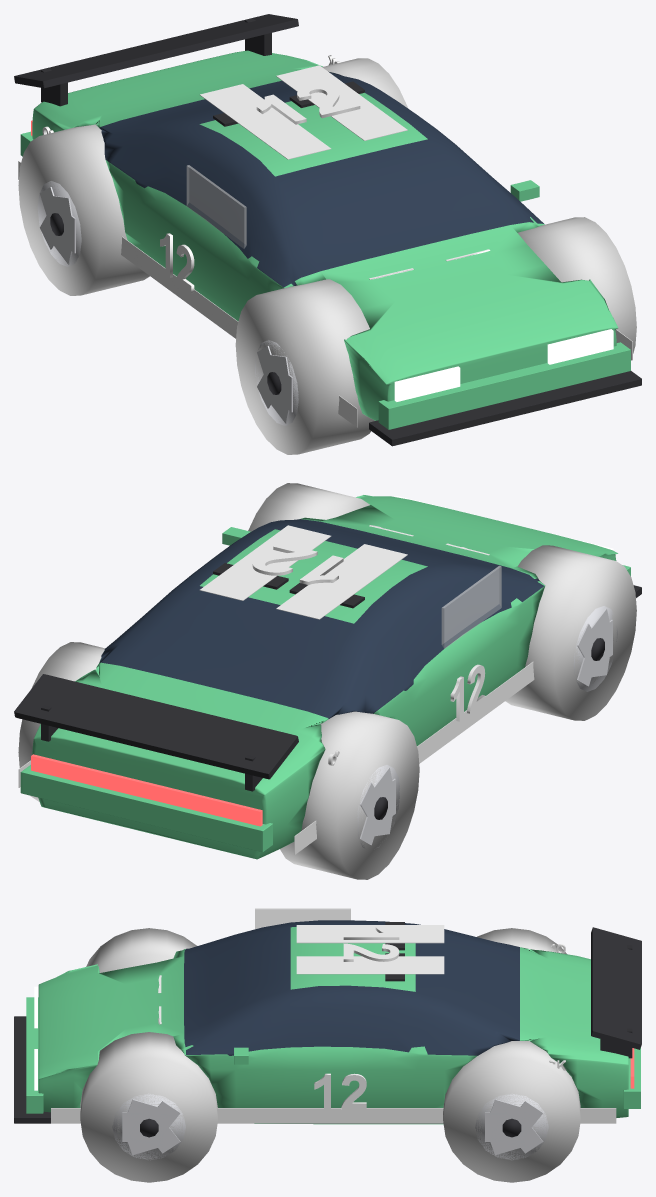
Rendered from car_2.glb.
The picture shows the model from 3 angles, top to bottom: view 1: azimuth 30°, elevation 25°; view 2: azimuth 150°, elevation 25°; view 3: azimuth 270°, elevation 25°; orthographic projection. The views are drawn at different scales.
Parts seen in each view (by area): view 1: body, cutter, cutter.002, bumperF, cutter.001, spoiler, splitter, roofL, roofR, net, sideS, Text.004 (+6 smaller); view 2: body, cutter.002, cutter, spoiler, bumperR, tail, roofL, cutter.001, roofR, net, sideS, cutter.003 (+4 smaller); view 3: body, cutter.001, cutter.003, spoiler, sideS.001, cutter, roofR, roofL, splitter, rim.001, rim.003, net (+16 smaller).
Part boxes in pixels (left/top/right/bottom): body: left=32, top=50, right=618, bottom=420; cutter: left=235, top=279, right=374, bottom=454; cutter.002: left=18, top=124, right=149, bottom=295; bumperF: left=378, top=342, right=630, bottom=429; cutter.001: left=518, top=217, right=636, bottom=360; spoiler: left=14, top=14, right=298, bottom=88; splitter: left=369, top=371, right=641, bottom=446; roofL: left=200, top=84, right=331, bottom=159; roofR: left=276, top=65, right=407, bottom=140; net: left=186, top=165, right=246, bottom=248; sideS: left=18, top=161, right=357, bottom=427; Text.004: left=256, top=84, right=360, bottom=124; body: left=32, top=495, right=617, bottom=859; cutter.002: left=280, top=711, right=419, bottom=879; cutter: left=505, top=545, right=636, bottom=720; spoiler: left=14, top=674, right=298, bottom=779; bumperR: left=20, top=765, right=272, bottom=851; tail: left=31, top=754, right=262, bottom=826; roofL: left=276, top=544, right=407, bottom=619; cutter.001: left=248, top=483, right=369, bottom=531; roofR: left=199, top=525, right=331, bottom=600; net: left=441, top=565, right=501, bottom=648; sideS: left=294, top=661, right=534, bottom=854; cutter.003: left=18, top=642, right=104, bottom=801; body: left=38, top=920, right=628, bottom=1124; cutter.001: left=80, top=1032, right=217, bottom=1182; cutter.003: left=443, top=1040, right=580, bottom=1182; spoiler: left=591, top=927, right=641, bottom=1049; sideS.001: left=51, top=1108, right=616, bottom=1123; cutter: left=86, top=928, right=196, bottom=972; roofR: left=296, top=956, right=444, bottom=974; roofL: left=296, top=925, right=444, bottom=943; splitter: left=14, top=1016, right=50, bottom=1123; rim.001: left=112, top=1093, right=185, bottom=1160; rim.003: left=475, top=1093, right=548, bottom=1160; net: left=255, top=908, right=350, bottom=929.
Size of the model in its own units: 2.56 by 1.57 by 5.11.
